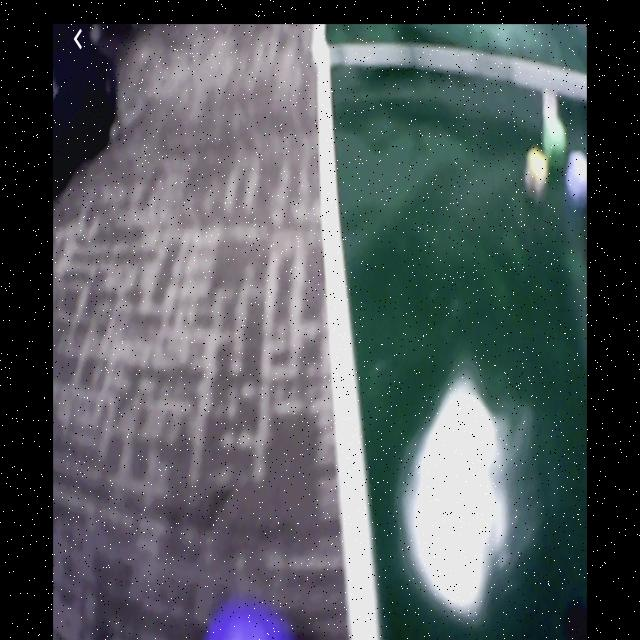ball: (201, 600, 294, 640)
